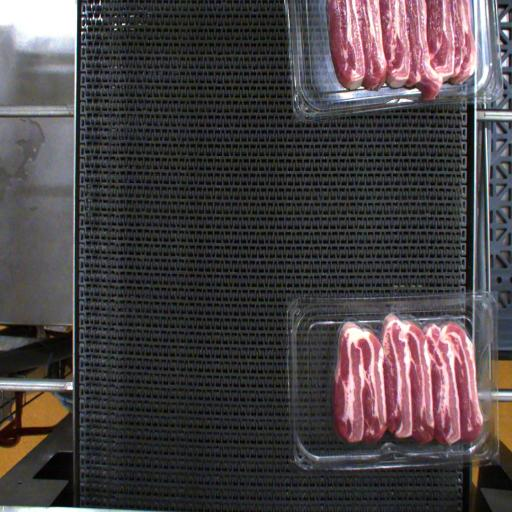unsealed: (323, 295, 474, 355)
